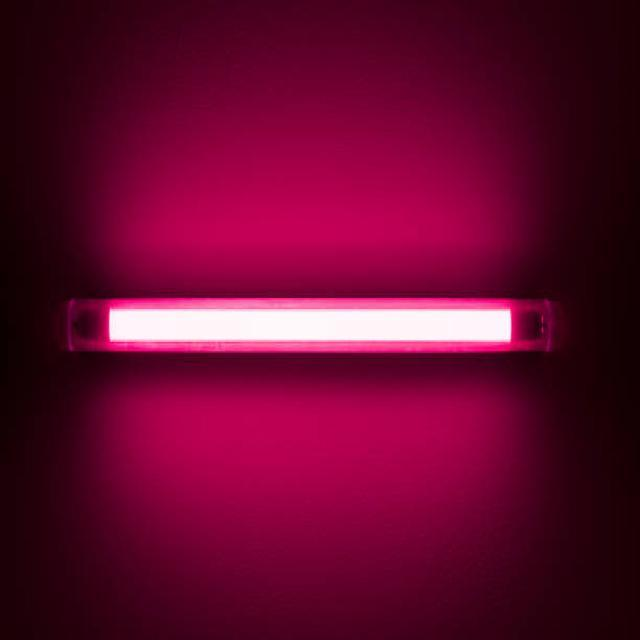tubelight_on: (46, 289, 550, 360)
